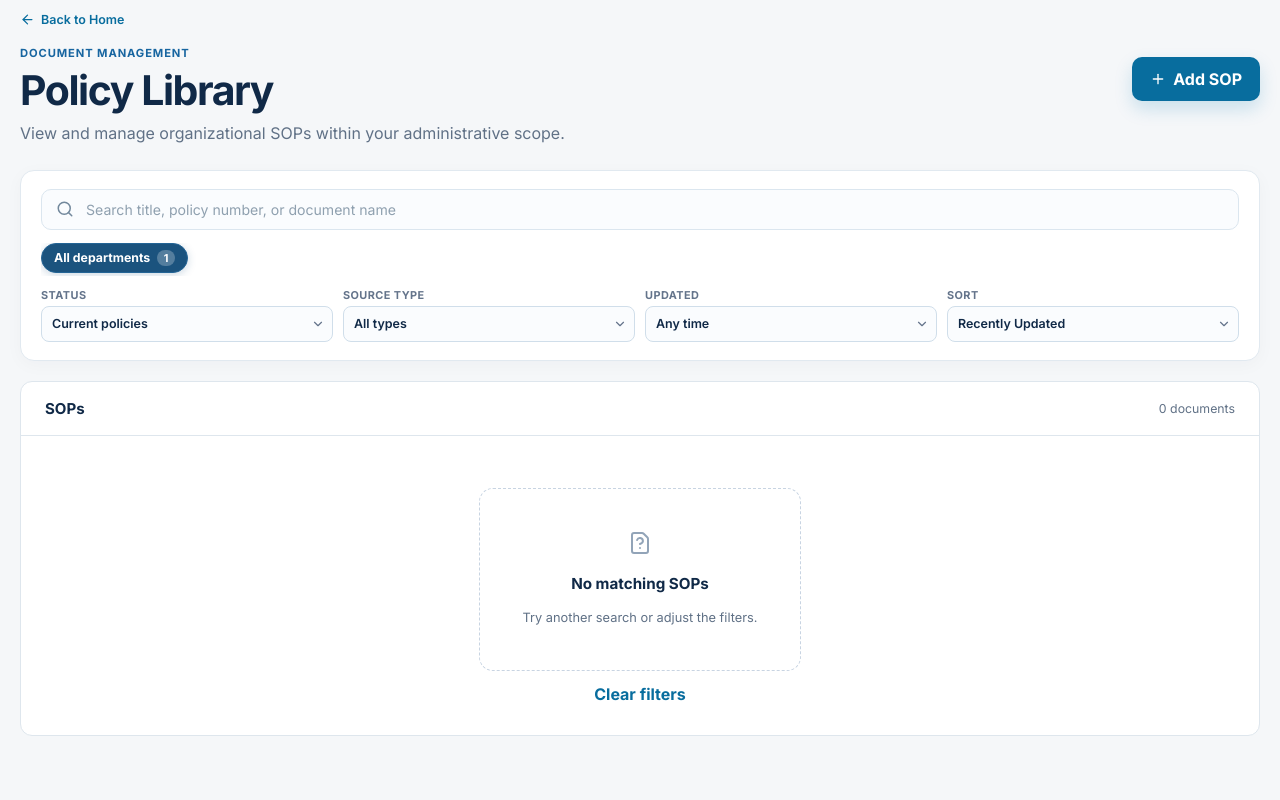
Test: policy library role actions › hides archived policies by default and exposes them through the status filter
Expected: the text "0 documents" is shown, left=1159, top=401, right=1235, bottom=416
Expected: the text "Archived returns policy" is not shown
Select "Archived" in the dropdown labelled "Status" at (187, 324), box left=41, top=306, right=333, bottom=342
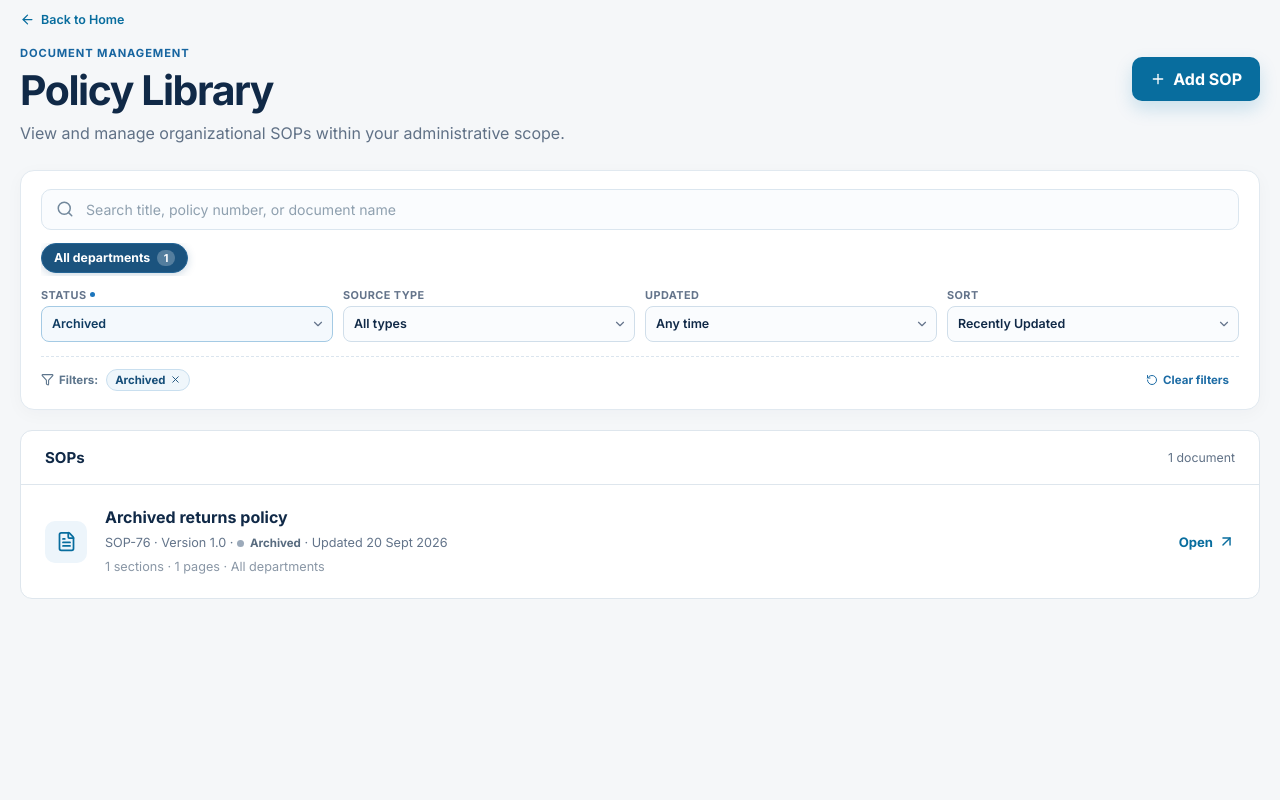
Now the link "Archived returns policy" is shown, box left=105, top=507, right=288, bottom=527
Now the text "Archived" next to "Version 1.0" is shown, box left=250, top=536, right=301, bottom=550
